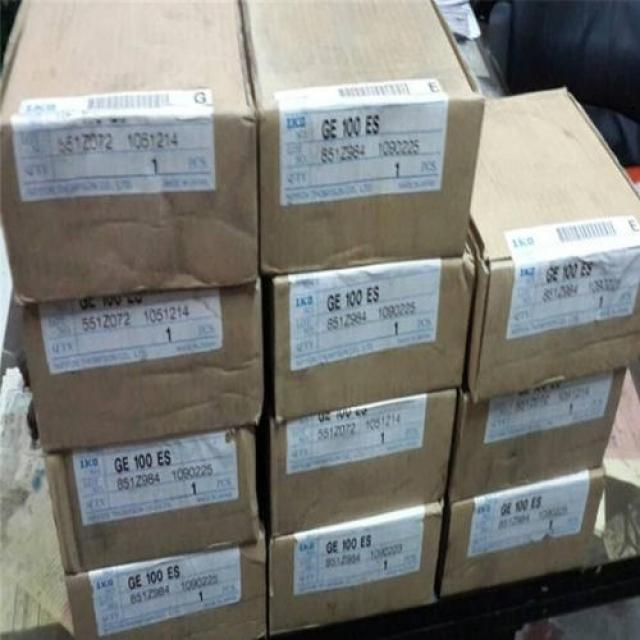box: (0, 4, 259, 308), (241, 2, 484, 279), (466, 88, 639, 406), (17, 281, 263, 457), (269, 235, 476, 424), (40, 426, 264, 580), (266, 387, 458, 538), (266, 499, 447, 635), (444, 368, 627, 502), (439, 469, 605, 598), (66, 539, 269, 638)
